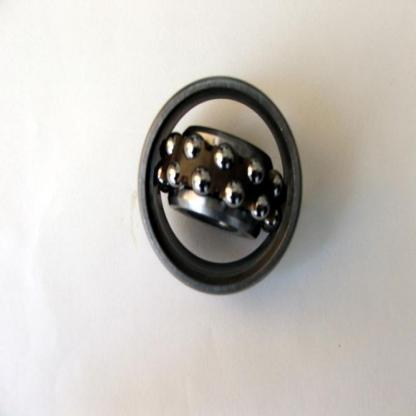FOD: (135, 71, 303, 301)
